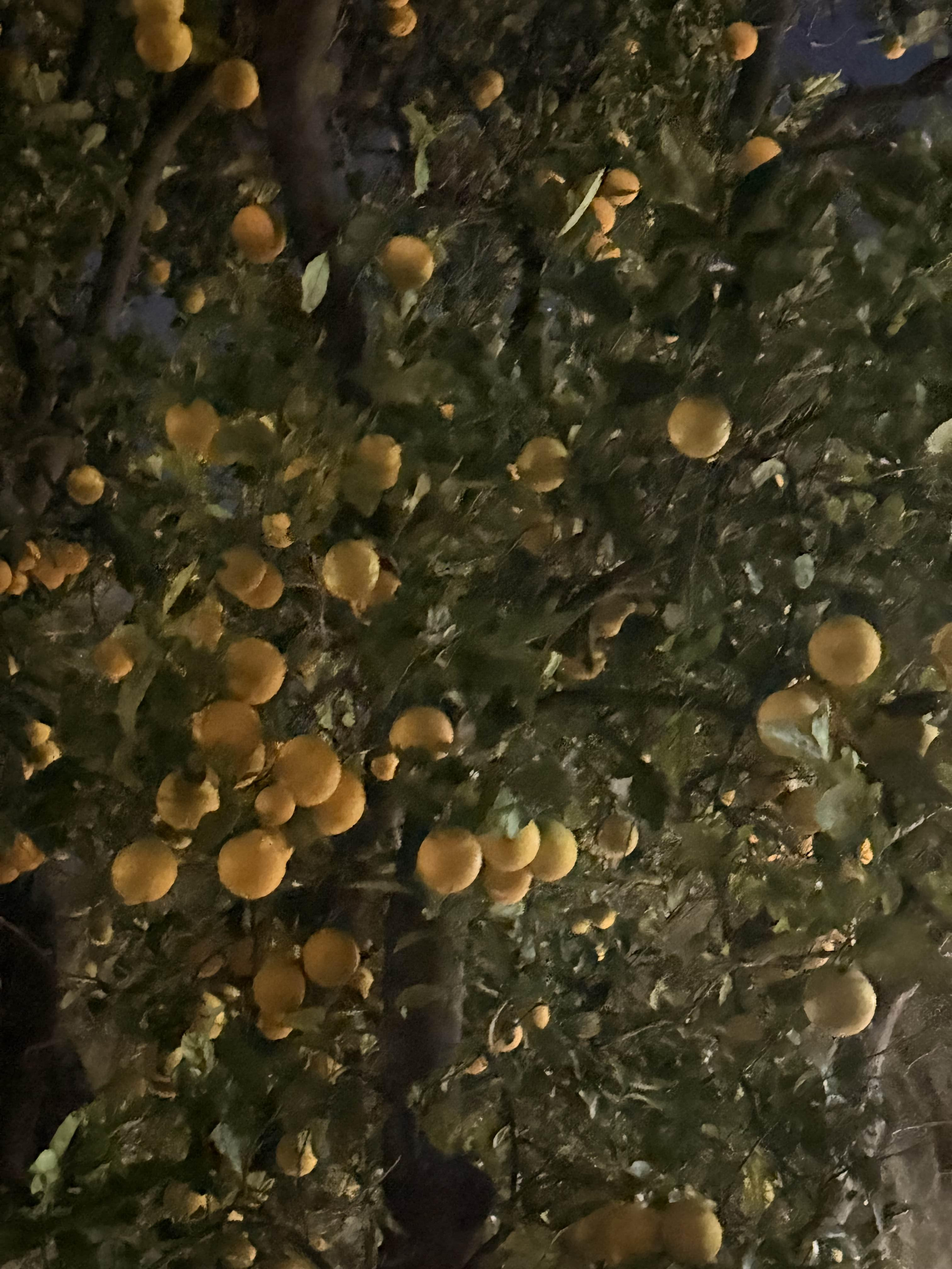orange: (756, 683, 828, 758), (808, 615, 881, 688), (803, 965, 876, 1037), (274, 734, 342, 807), (218, 829, 287, 900), (416, 827, 482, 895), (111, 838, 178, 904), (224, 637, 286, 706), (156, 763, 219, 829), (193, 702, 261, 763), (661, 1198, 722, 1265), (667, 397, 731, 460), (322, 540, 379, 606), (608, 1203, 664, 1268), (312, 769, 365, 836), (302, 927, 359, 988), (389, 706, 454, 759), (165, 399, 221, 458), (230, 205, 286, 264), (253, 954, 306, 1016), (571, 1201, 628, 1258), (378, 235, 434, 291), (478, 821, 540, 871), (284, 455, 340, 509), (528, 821, 577, 882), (136, 19, 192, 72), (515, 436, 568, 492), (350, 568, 400, 627), (170, 598, 222, 651), (216, 546, 266, 599), (356, 433, 402, 490), (212, 58, 259, 110), (517, 508, 563, 556), (234, 413, 275, 465), (204, 416, 246, 466), (482, 865, 532, 905), (239, 564, 283, 609), (91, 637, 134, 683), (275, 1130, 317, 1177), (591, 595, 638, 637), (598, 813, 638, 859), (783, 785, 820, 834), (254, 784, 296, 827), (163, 1181, 207, 1222), (217, 1224, 256, 1269), (736, 136, 780, 175), (598, 168, 640, 206), (193, 992, 225, 1041), (5, 833, 44, 873), (483, 1014, 523, 1053), (67, 465, 105, 505), (233, 742, 265, 789), (469, 69, 504, 111), (931, 622, 952, 690), (723, 21, 758, 61), (558, 651, 606, 680), (206, 985, 241, 1023), (308, 1050, 344, 1086), (188, 940, 223, 977), (30, 555, 66, 589), (52, 542, 89, 575), (262, 512, 294, 549), (133, 0, 184, 22), (586, 231, 620, 261), (386, 3, 416, 37), (590, 196, 616, 234), (257, 1013, 292, 1041), (229, 936, 254, 975), (347, 965, 373, 999), (519, 1004, 550, 1031), (180, 285, 206, 315), (371, 753, 399, 780), (270, 1252, 314, 1269), (17, 540, 40, 572), (23, 720, 50, 745), (144, 204, 167, 233), (148, 258, 170, 285), (0, 854, 20, 883), (592, 907, 617, 929), (34, 741, 53, 769), (883, 36, 906, 59), (6, 571, 28, 595), (465, 1054, 489, 1073), (0, 557, 12, 593), (45, 740, 63, 760), (21, 751, 33, 780), (572, 918, 592, 934), (383, 0, 408, 8), (161, 271, 161, 271)
